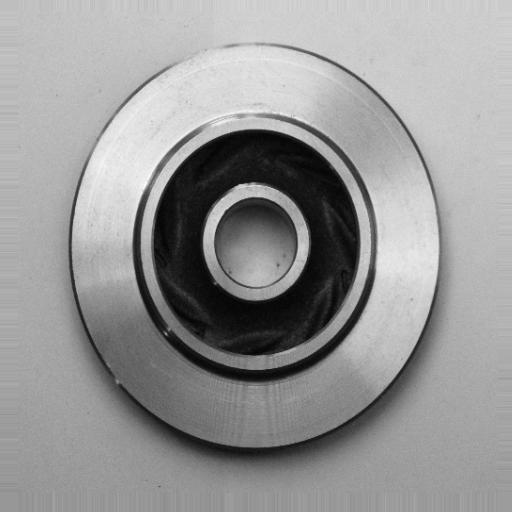scratch: (168, 35, 256, 70), (195, 109, 272, 127)
unpolished_casting: (63, 39, 444, 458)
